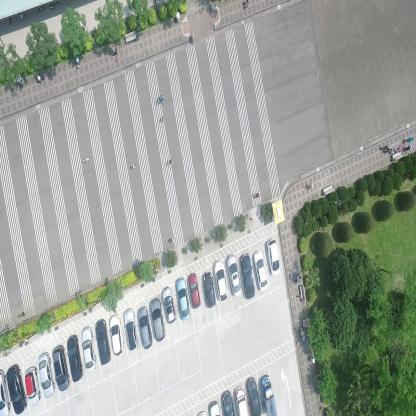car: (6, 364, 28, 414), (52, 344, 70, 392), (66, 336, 84, 383), (38, 352, 55, 400), (94, 319, 111, 366), (260, 374, 278, 415), (226, 252, 242, 298), (80, 326, 96, 372), (240, 252, 255, 300), (175, 277, 191, 322), (123, 308, 139, 353), (253, 249, 269, 292), (150, 298, 166, 341), (136, 306, 152, 348), (108, 314, 124, 356), (213, 259, 228, 303), (25, 366, 41, 406), (247, 376, 262, 416), (265, 238, 280, 275), (203, 270, 217, 309), (162, 286, 176, 324), (0, 368, 11, 414), (234, 383, 249, 415), (187, 272, 200, 308), (221, 390, 234, 415)
